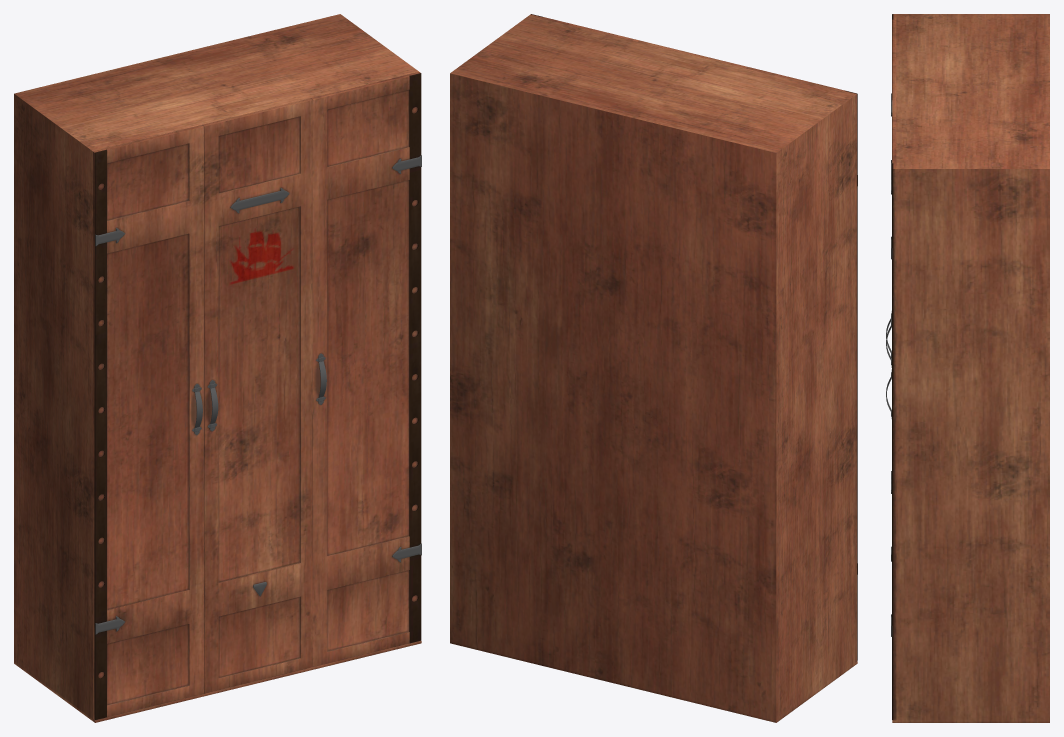
3 views of the same model, side by side, from view 1: azimuth 30°, elevation 25°; view 2: azimuth 150°, elevation 25°; view 3: azimuth 270°, elevation 25° (orthographic). The views are drawn at different scales.
Parts seen in each view (by area): view 1: wood, metal; view 2: wood; view 3: wood, metal.
Boxes of the visible parts, bbox=[...] form: wood: bbox=[14, 14, 421, 722]; metal: bbox=[95, 155, 421, 634]; wood: bbox=[450, 14, 857, 722]; wood: bbox=[892, 14, 1049, 722]; metal: bbox=[886, 93, 892, 636].
Size of the model in its own units: 1.22 by 2.03 by 0.5455.
2 materials, 1 textured.
